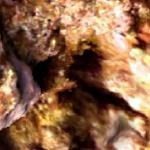alive: (6, 6, 148, 145)
